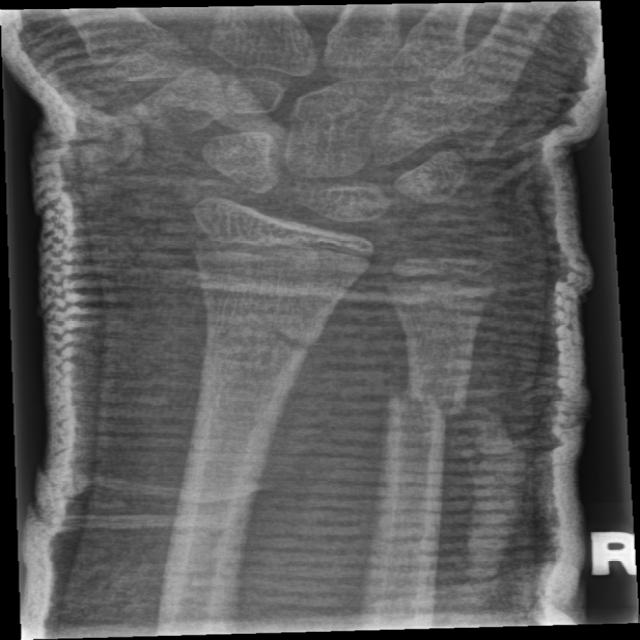radius fracture: (159, 281, 359, 418)
ulna fracture: (362, 308, 504, 522)
